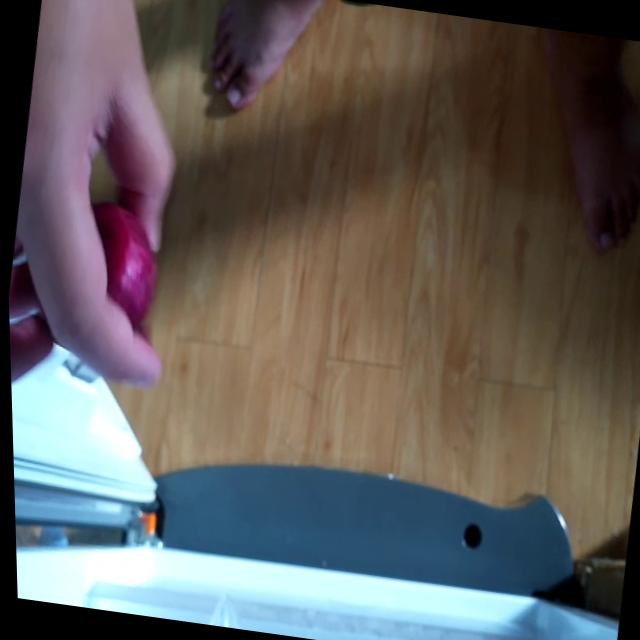onion: (75, 196, 168, 334)
